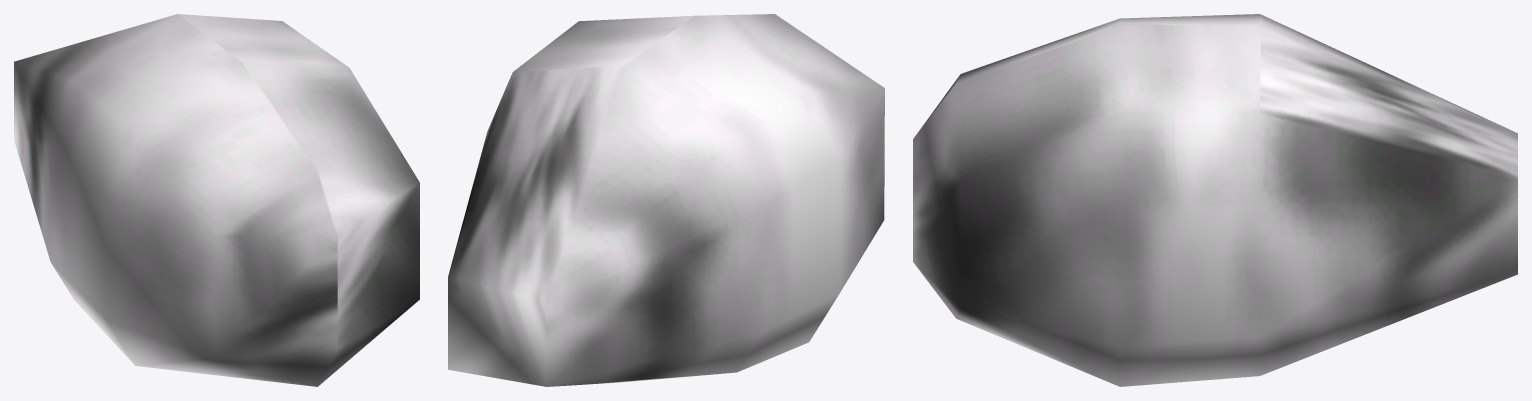
Rendered from pt_geonosian_bolt_l1.fbx.
The picture shows the model from 3 angles, left to right: view 1: azimuth 30°, elevation 25°; view 2: azimuth 150°, elevation 25°; view 3: azimuth 270°, elevation 25°; orthographic projection. The views are drawn at different scales.
Parts seen in each view (by area): view 1: mesh_node; view 2: mesh_node; view 3: mesh_node.
Part boxes in pixels (bbox=[...]): mesh_node: bbox=[14, 14, 419, 386]; mesh_node: bbox=[448, 14, 884, 386]; mesh_node: bbox=[913, 14, 1517, 386].
Bounding box in the file's own units: 3.02 × 3.28 × 5.37.
